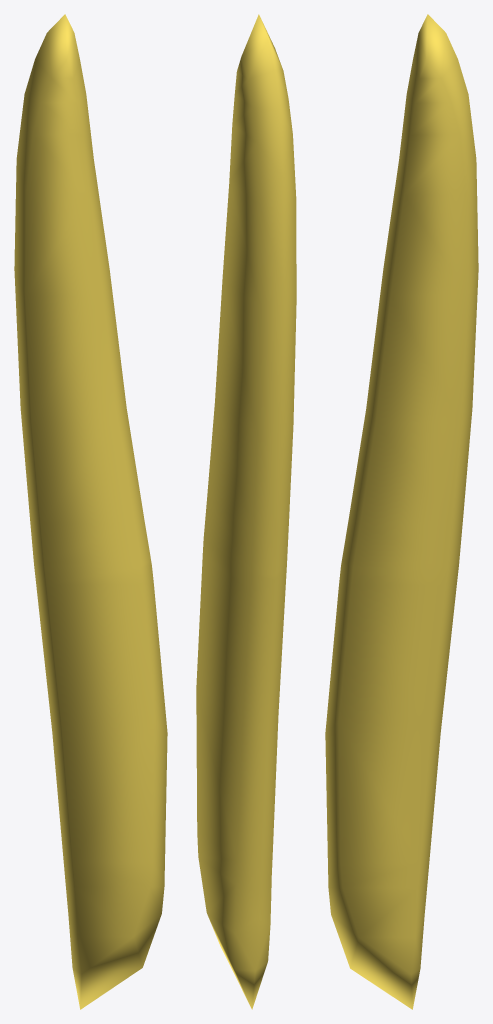
File: elif.FBX
3 renders of one model, left to right at view 1: azimuth 90°, elevation 25°; view 2: azimuth 210°, elevation 25°; view 3: azimuth 270°, elevation 25°, orthographic.
Parts seen in each view (by area): view 1: elif; view 2: elif; view 3: elif.
Boxes of the visible parts, x1,y1,x2,y2 form: elif: (14, 14, 167, 1009); elif: (196, 14, 296, 1009); elif: (325, 14, 478, 1009).
Size of the model in its own units: 9.75 by 36.4 by 261.
Materials: 1 (1 with a texture image).
